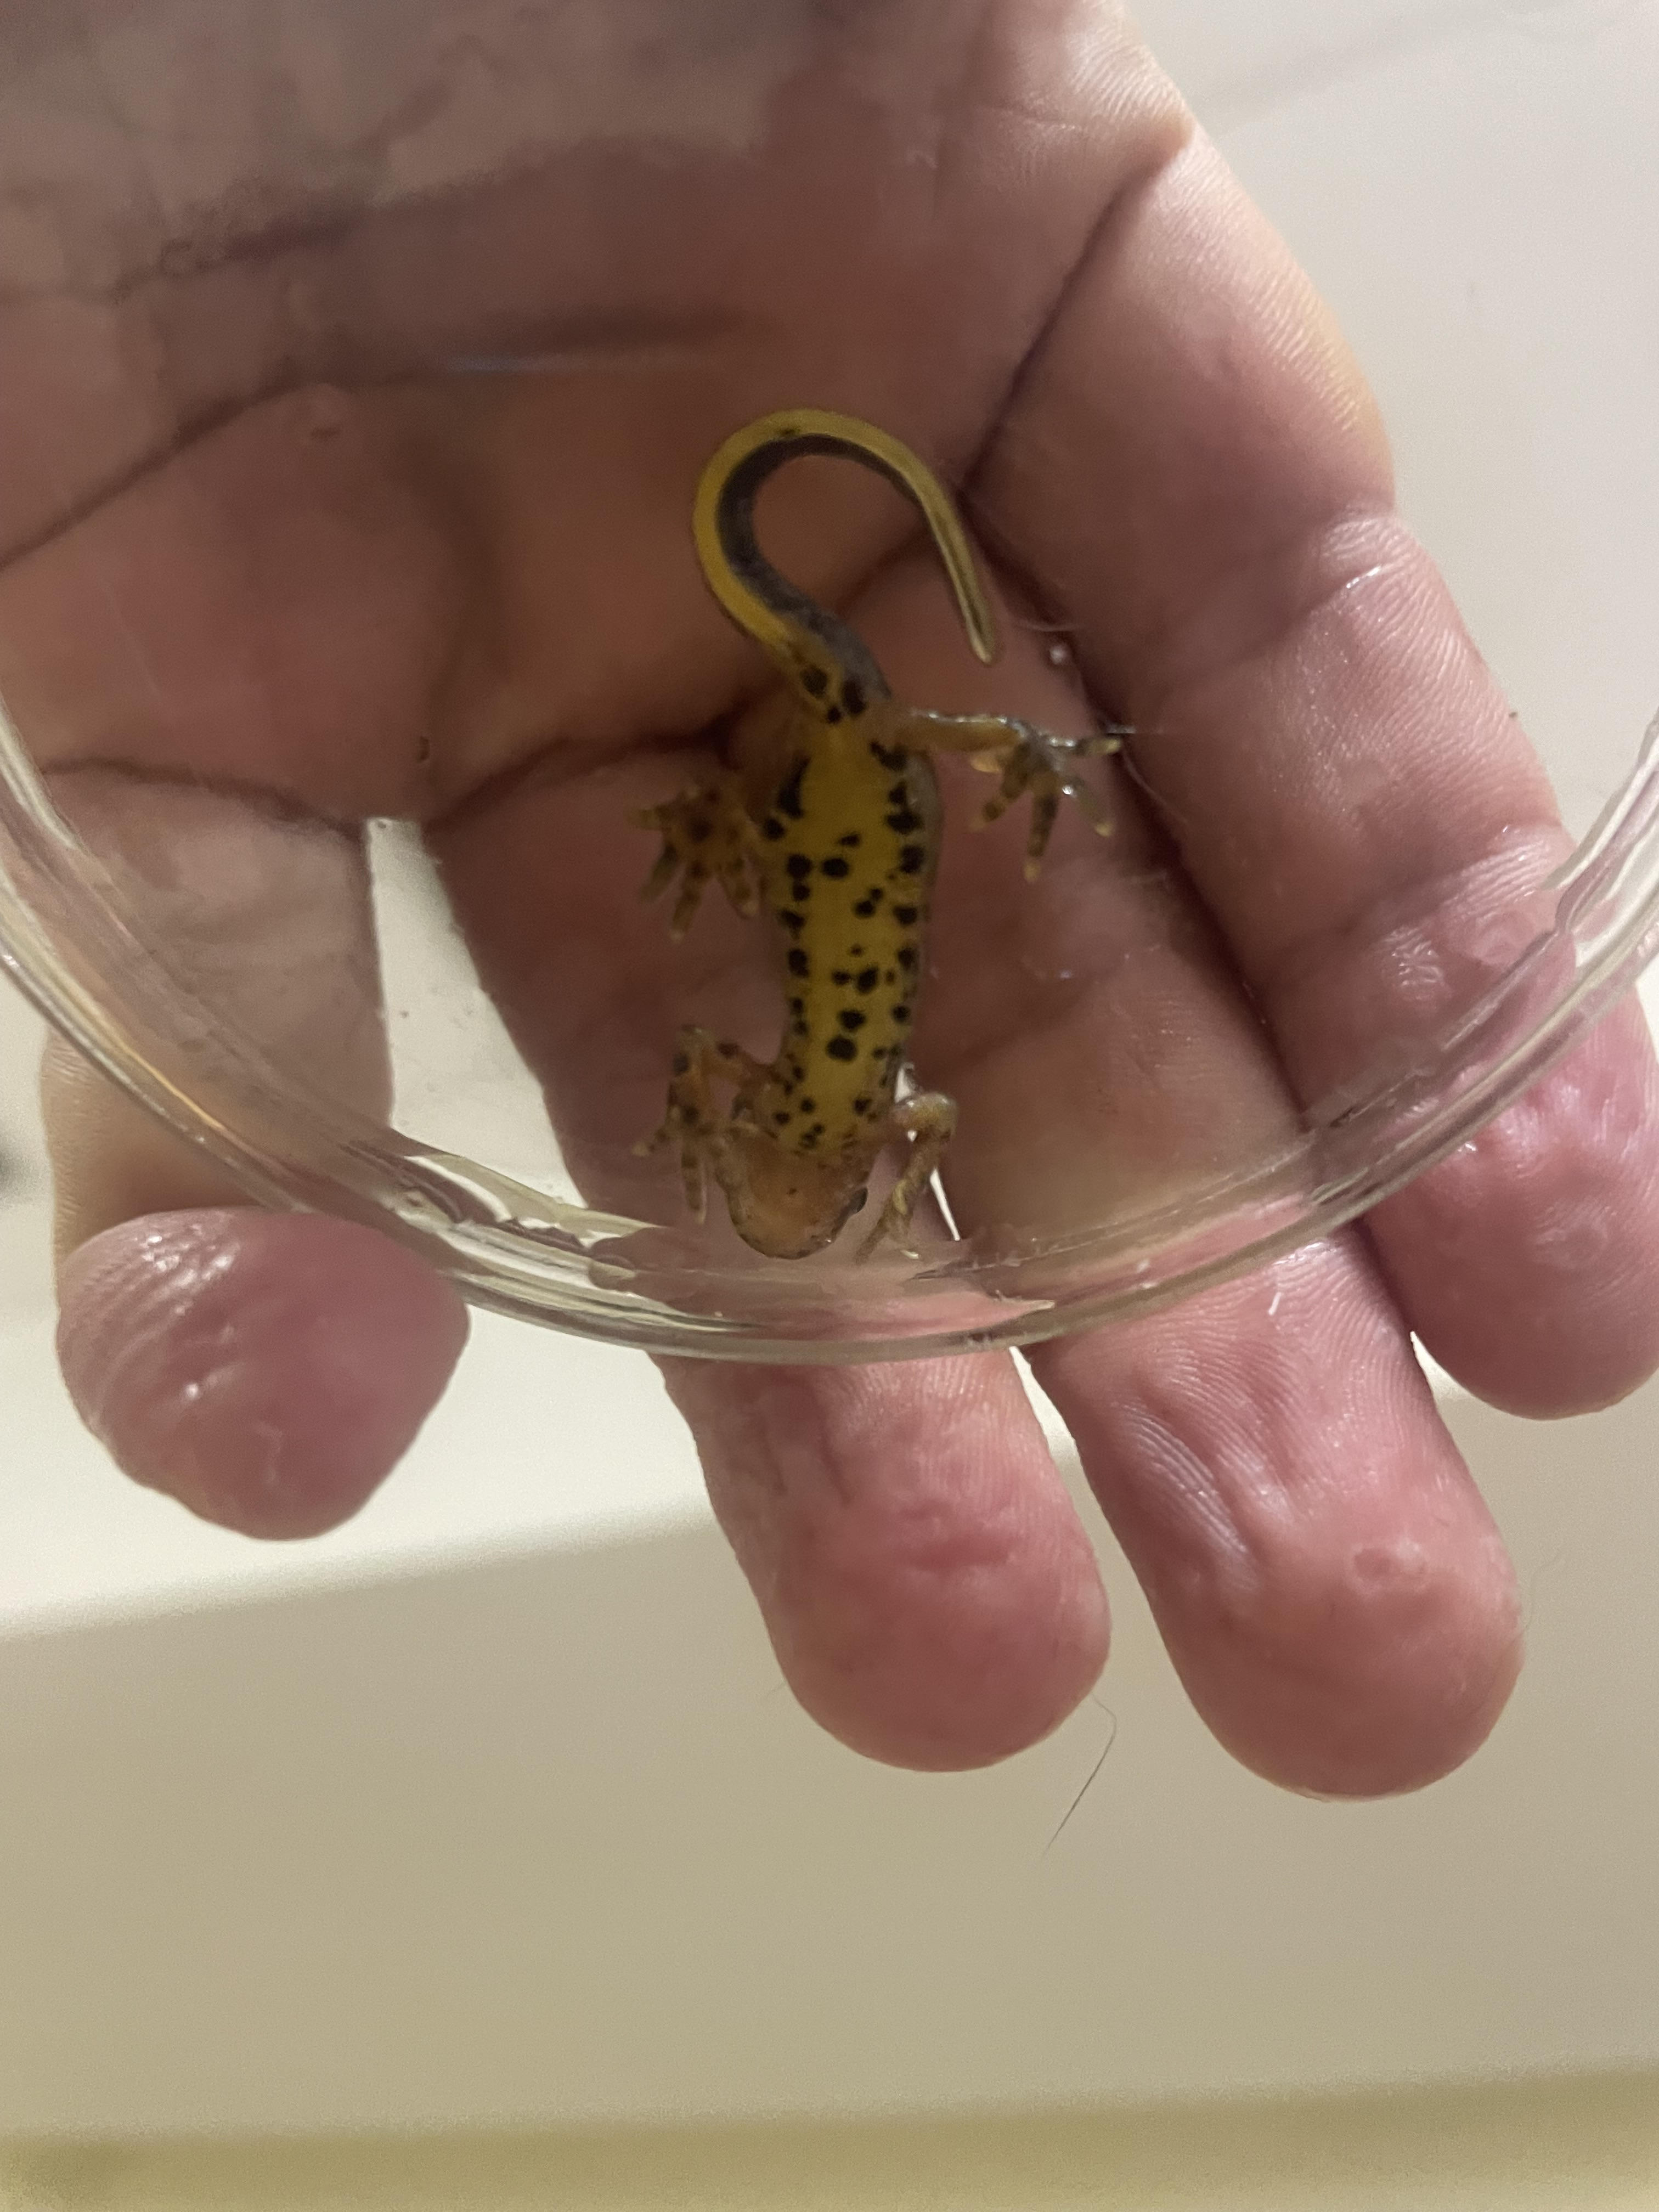Karelin_newt: (762, 756, 945, 1104)
